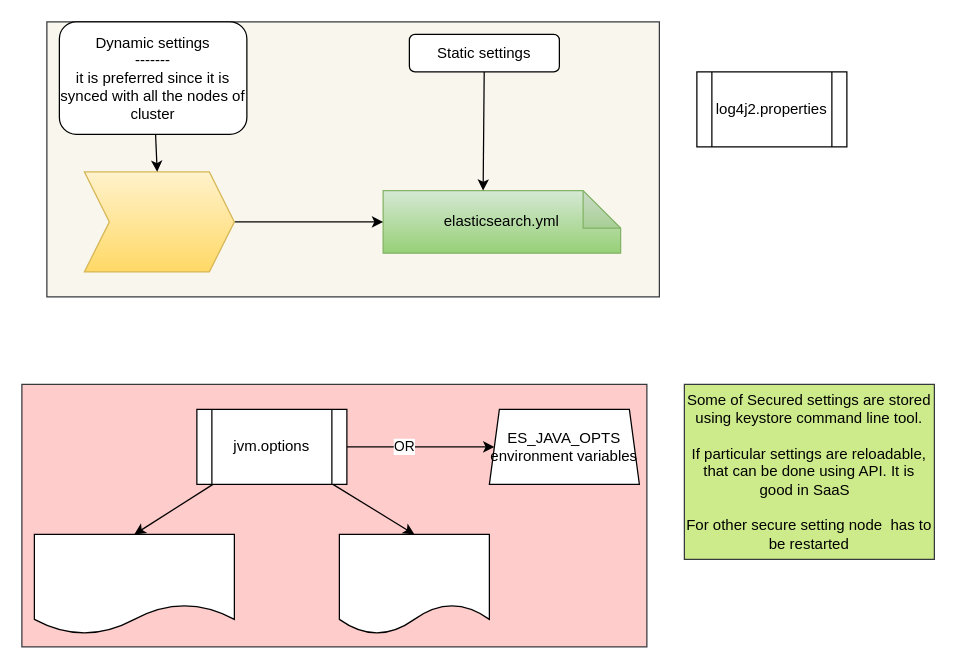
Some shapes in this 956 by 669 pixel diagram are drawn without their labels. Here are the shapes that lost their labels. From the top down, the centre of each, then its label:
At point (158, 221): "Cluster setting APIs to dynamically change the configuraiton".
At point (133, 583): "root version of this file placed in config folder Avoid to update on this file".
At point (413, 583): "custom version of this file placed in config/jvm.options.d/ folder".
